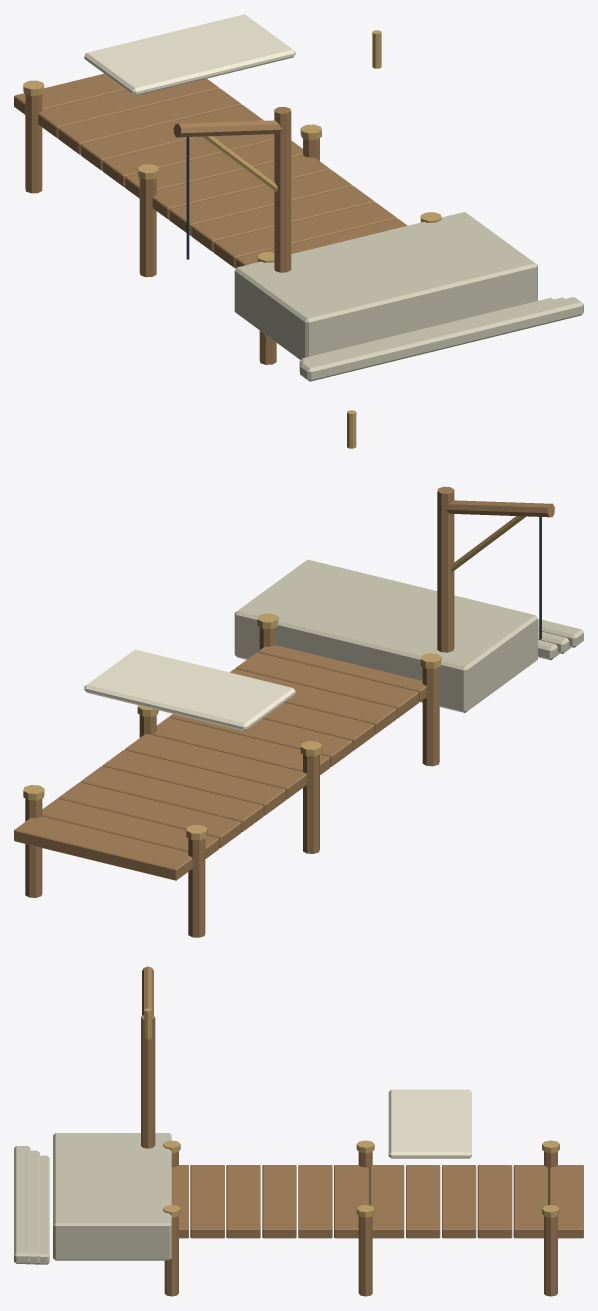
Rendered from level_23.glb.
3 views of the same model, one above another, from view 1: azimuth 30°, elevation 25°; view 2: azimuth 150°, elevation 25°; view 3: azimuth 270°, elevation 25° (orthographic). The views are drawn at different scales.
Visible parts, largest first — view 1: dock — level 23; view 2: dock — level 23; view 3: dock — level 23.
Boxes of the visible parts, x1=… form: dock — level 23: x1=14, y1=14, x2=583, y2=381; dock — level 23: x1=14, y1=410, x2=583, y2=937; dock — level 23: x1=14, y1=966, x2=583, y2=1296.
Bounding box in the file's own units: 5.14 × 4.77 × 9.61.
